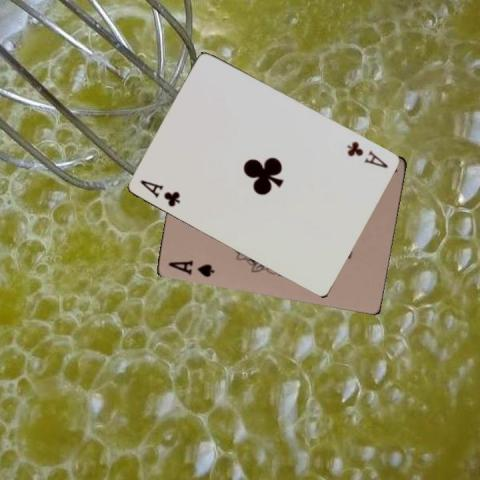Ac: (344, 138, 390, 169), (138, 177, 183, 208)
As: (166, 257, 216, 278)
